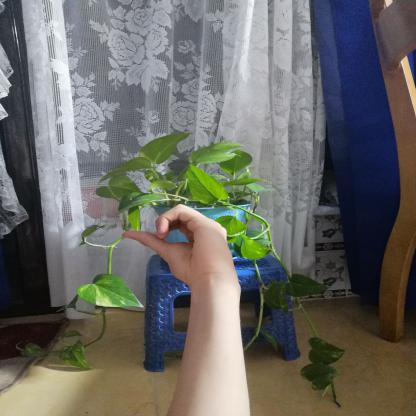WAW: (110, 194, 250, 294)
